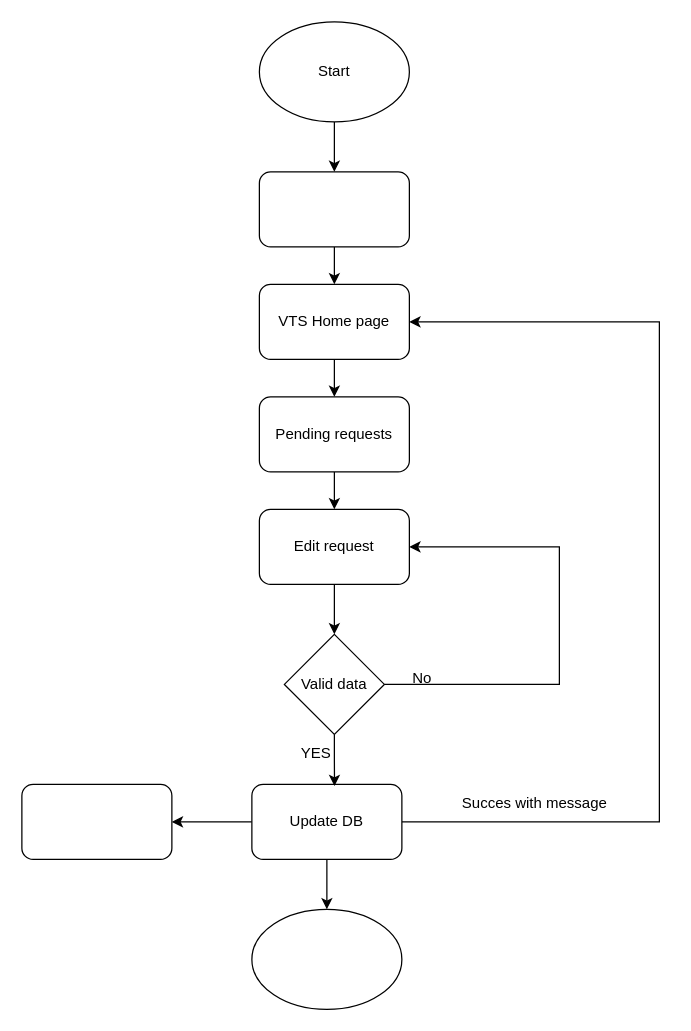
This 691x1031 diagram has some shape labels left out. Here are the shapes that lost their labels. From the top down, the centre of each, then its label:
(333,209): Login
(96,821): Notify manager with email
(326,958): END
